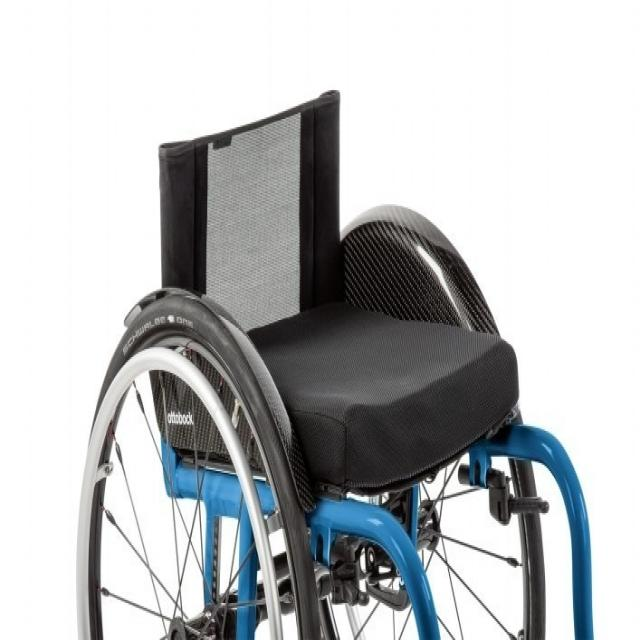wheelchair: (73, 84, 612, 640)
